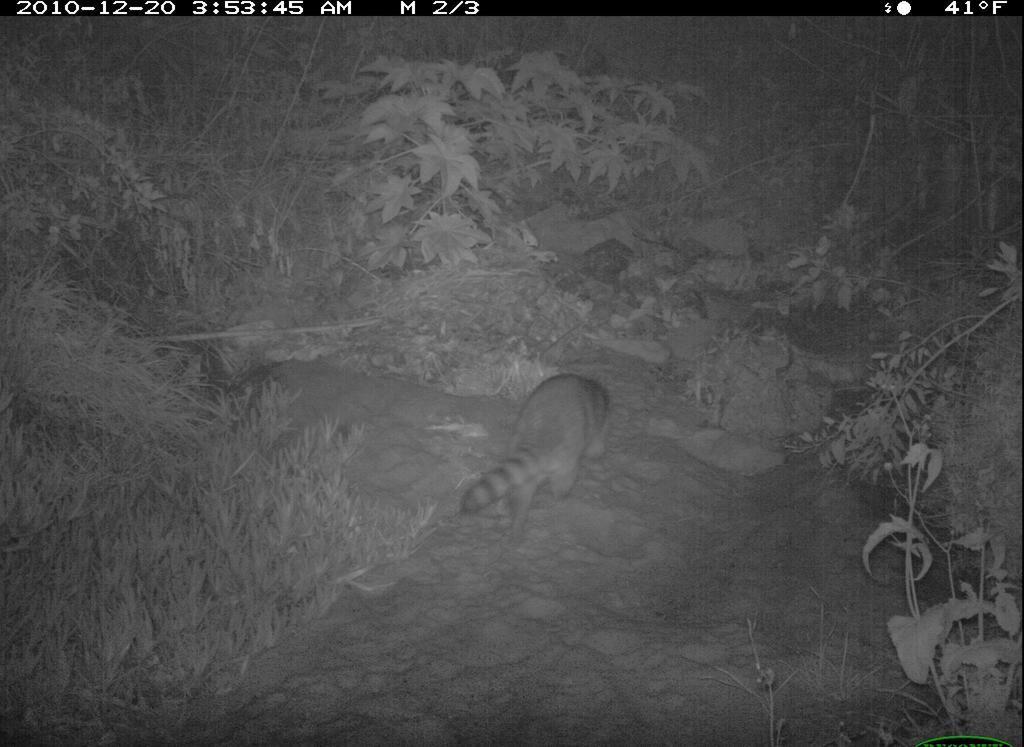raccoon: (454, 367, 621, 551)
